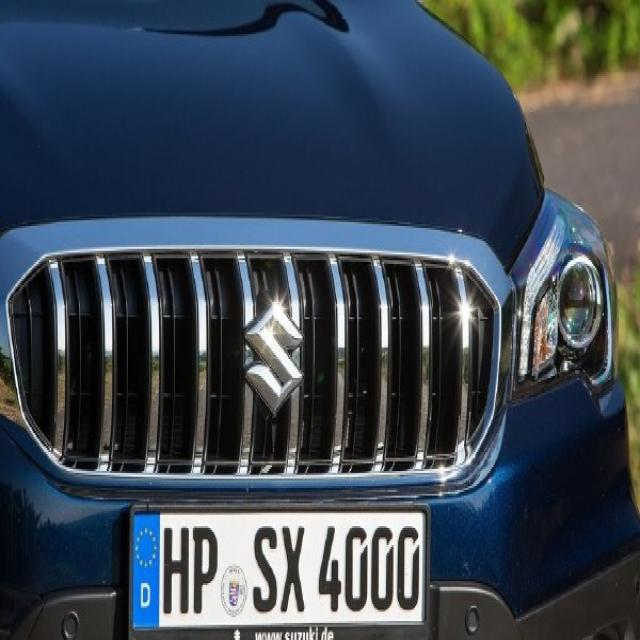license-plate: (131, 511, 426, 627)
